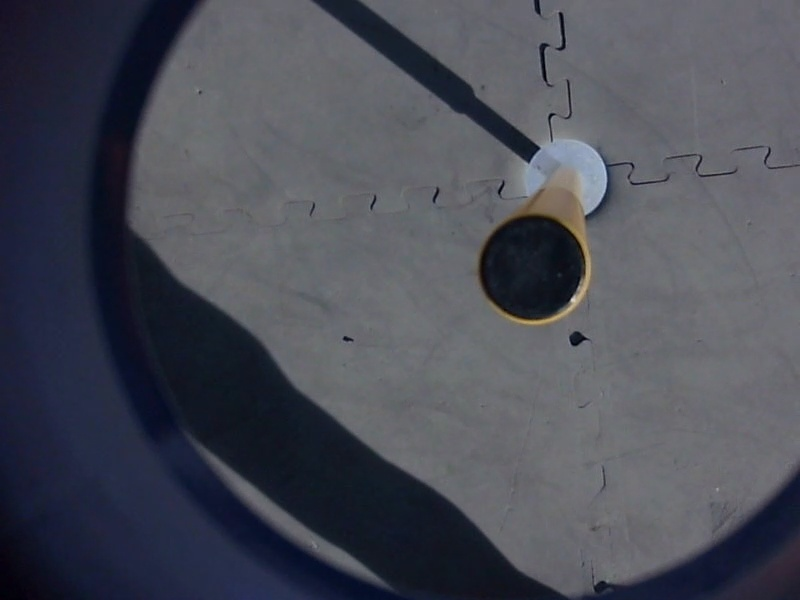tip: (473, 209, 598, 330)
